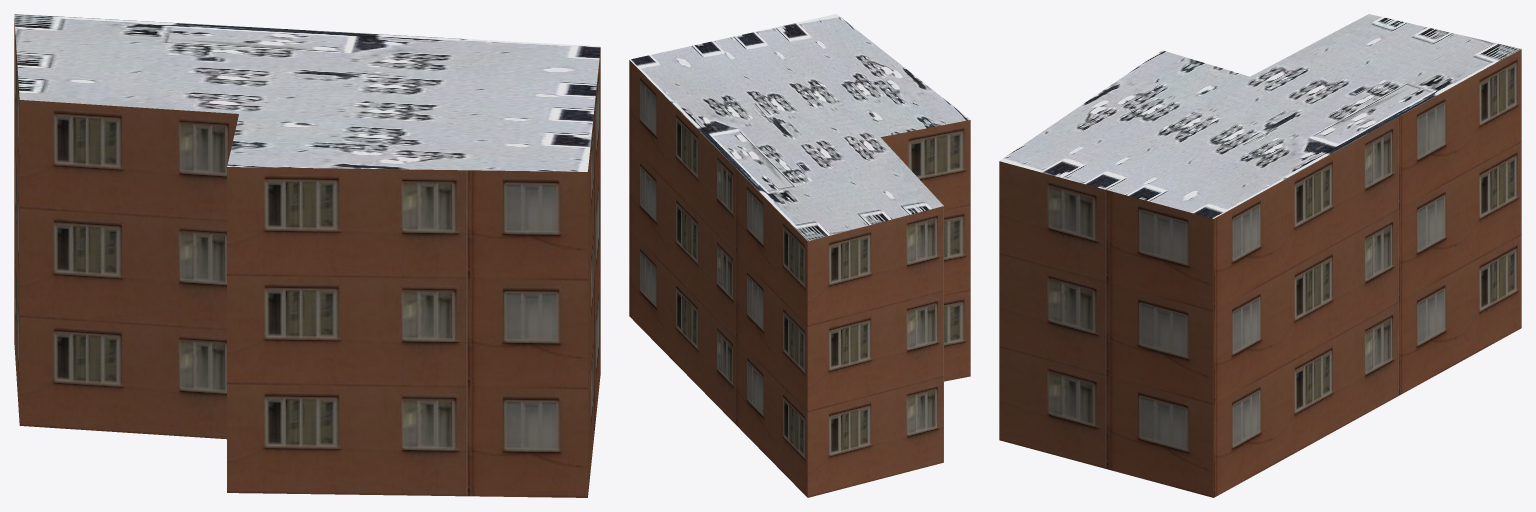
The model's file is ResTex__3933.fbx.
3 views of the same model, side by side, from view 1: azimuth 30°, elevation 25°; view 2: azimuth 150°, elevation 25°; view 3: azimuth 270°, elevation 25° (orthographic). The views are drawn at different scales.
Parts seen in each view (by area): view 1: CityEngineMaterial_20_m, CityEngineMaterial_m; view 2: CityEngineMaterial_20_m, CityEngineMaterial_m; view 3: CityEngineMaterial_20_m, CityEngineMaterial_m.
Part boxes in pixels (bbox=[...]): CityEngineMaterial_20_m: bbox=[14, 19, 600, 497]; CityEngineMaterial_m: bbox=[14, 14, 600, 171]; CityEngineMaterial_20_m: bbox=[629, 60, 970, 497]; CityEngineMaterial_m: bbox=[629, 14, 970, 241]; CityEngineMaterial_20_m: bbox=[999, 49, 1521, 497]; CityEngineMaterial_m: bbox=[999, 14, 1521, 218].
Bounding box in the file's own units: 14.17 × 9 × 15.28.
2 materials, 2 textured.
